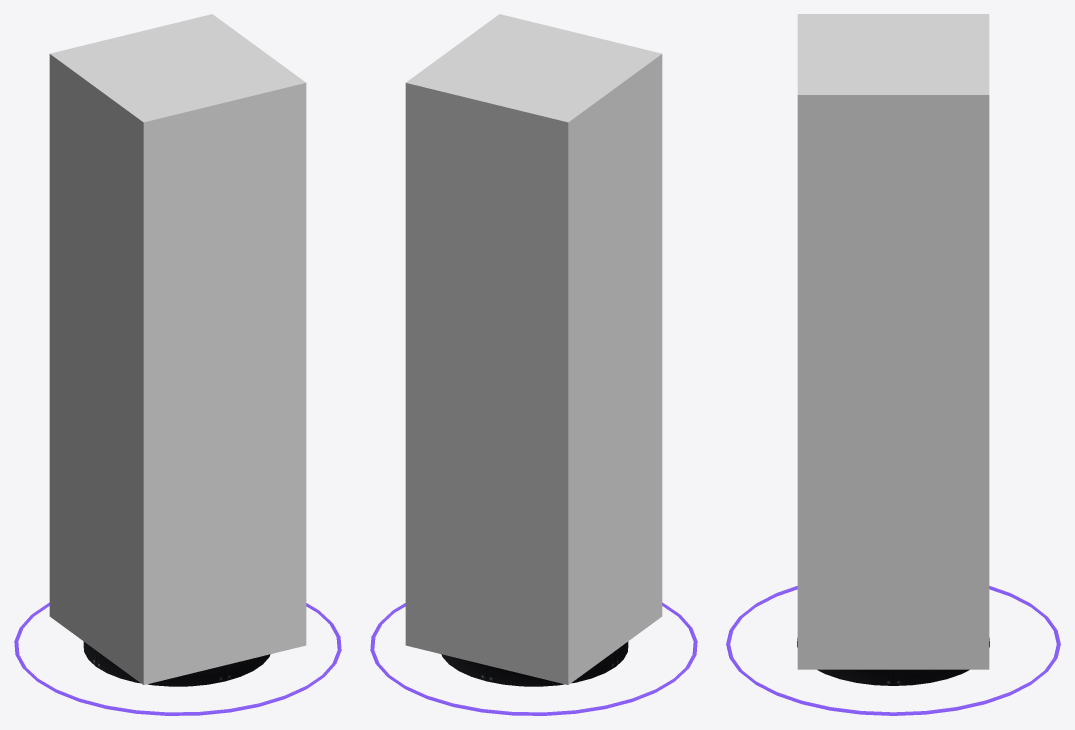
Rendered from Pet_JellyfishTank.gltf.
3 renders of one model, left to right at view 1: azimuth 30°, elevation 25°; view 2: azimuth 150°, elevation 25°; view 3: azimuth 270°, elevation 25°, orthographic. The views are drawn at different scales.
Visible parts, largest first — view 1: Pet_JellyfishTank_COL, Pet_JellyfishTank; view 2: Pet_JellyfishTank_COL, Pet_JellyfishTank; view 3: Pet_JellyfishTank_COL, Pet_JellyfishTank.
Boxes of the visible parts, left/top/right/bottom form: Pet_JellyfishTank_COL: left=49, top=14, right=306, bottom=684; Pet_JellyfishTank: left=14, top=602, right=341, bottom=715; Pet_JellyfishTank_COL: left=405, top=14, right=662, bottom=684; Pet_JellyfishTank: left=370, top=602, right=697, bottom=715; Pet_JellyfishTank_COL: left=797, top=14, right=989, bottom=669; Pet_JellyfishTank: left=726, top=586, right=1060, bottom=715.
Size of the model in its own units: 1.32 by 2.57 by 1.32.
10 materials, 1 textured.
